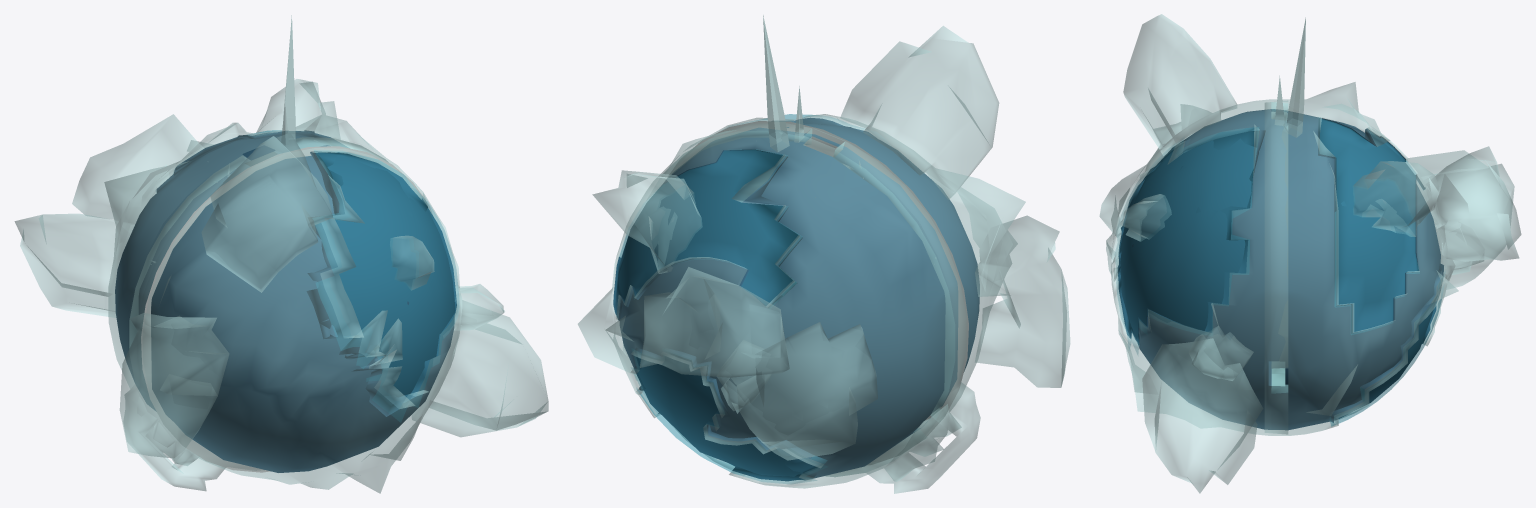
The model's file is planetaHielo.fbx.
3 views of the same model, side by side, from view 1: azimuth 30°, elevation 25°; view 2: azimuth 150°, elevation 25°; view 3: azimuth 270°, elevation 25° (orthographic). The views are drawn at different scales.
Visible parts, largest first — view 1: Sphere, Sphere.011, Sphere.001, Sphere.007, Sphere.006, Cylinder.001, Sphere.003, Sphere.008, Cylinder.002, Sphere.012, Sphere.010, Sphere.002 (+3 smaller); view 2: Sphere, Sphere.001, Sphere.011, Cylinder.001, Sphere.003, Sphere.007, Sphere.008, Sphere.010, Cylinder.002, Sphere.012, Sphere.009, IceSpike.001 (+2 smaller); view 3: Sphere, Sphere.011, Sphere.006, Sphere.001, Cylinder.001, Sphere.008, Sphere.003, Sphere.012, Sphere.010, Sphere.005, Sphere.002, IceSpike.001 (+2 smaller).
Boxes of the visible parts, x1,y1,x2,y2 form: Sphere: [104, 114, 454, 472]; Sphere.011: [137, 142, 462, 493]; Sphere.001: [201, 133, 332, 292]; Sphere.007: [119, 313, 228, 458]; Sphere.006: [412, 300, 548, 437]; Cylinder.001: [123, 137, 420, 491]; Sphere.003: [14, 213, 134, 317]; Sphere.008: [72, 114, 212, 223]; Cylinder.002: [141, 146, 432, 472]; Sphere.012: [128, 136, 420, 351]; Sphere.010: [256, 79, 340, 139]; Sphere.002: [390, 235, 434, 290]; Sphere: [578, 120, 979, 488]; Sphere.001: [840, 26, 999, 199]; Sphere.011: [676, 114, 1025, 411]; Cylinder.001: [647, 124, 980, 493]; Sphere.003: [737, 322, 877, 460]; Sphere.007: [975, 215, 1070, 387]; Sphere.008: [639, 267, 789, 377]; Sphere.010: [592, 170, 701, 273]; Cylinder.002: [667, 121, 968, 464]; Sphere.012: [661, 122, 965, 477]; Sphere.009: [884, 404, 949, 481]; IceSpike.001: [763, 16, 804, 151]; Sphere: [1118, 82, 1458, 435]; Sphere.011: [1099, 99, 1271, 435]; Sphere.006: [1142, 338, 1263, 493]; Sphere.001: [1123, 14, 1237, 155]; Cylinder.001: [1265, 101, 1288, 434]; Sphere.008: [1426, 146, 1521, 261]; Sphere.003: [1406, 150, 1514, 289]; Sphere.012: [1270, 99, 1288, 435]; Sphere.010: [1353, 161, 1439, 236]; Sphere.005: [1188, 326, 1253, 380]; Sphere.002: [1119, 194, 1171, 241]; IceSpike.001: [1275, 19, 1305, 137].
Bounding box in the file's own units: 2.76 × 2.7 × 2.5.
